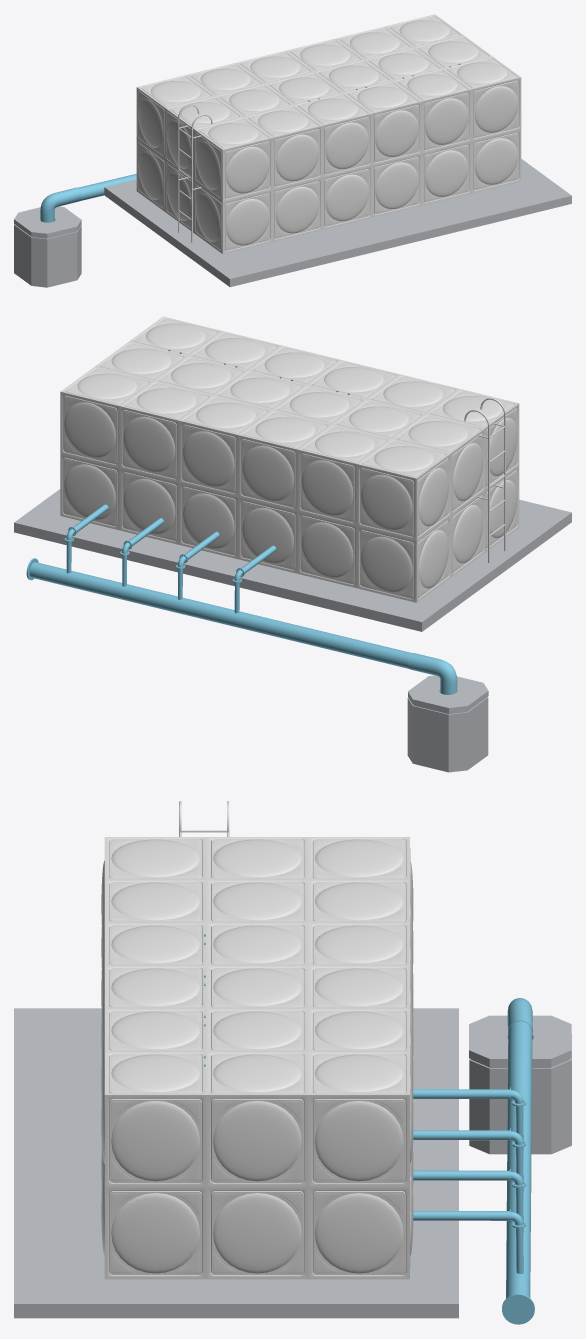
Rendered from room_outer.glb.
3 views of the same model, one above another, from view 1: azimuth 30°, elevation 25°; view 2: azimuth 150°, elevation 25°; view 3: azimuth 270°, elevation 25° (orthographic). The views are drawn at different scales.
Visible parts, largest first — view 1: Obj3d66_1070651_1_894, 地基, 平面, 平面_2, Obj3d66_1070651_2_244, 出水, 圆柱; view 2: Obj3d66_1070651_1_894, 地基, 圆柱, 平面, 平面_2, 出水, Obj3d66_1070651_2_244, 水泵, 水泵_3, 水泵_1, 水泵_2; view 3: Obj3d66_1070651_1_894, 地基, 平面, 圆柱, 平面_2, 水泵, 水泵_1, 水泵_2, 水泵_3, Obj3d66_9233065_133_145.
Boxes of the visible parts, x1,y1,x2,y2 form: Obj3d66_1070651_1_894: (136, 14, 521, 253); 地基: (104, 159, 571, 287); 平面: (14, 224, 81, 287); 平面_2: (14, 206, 81, 238); Obj3d66_1070651_2_244: (178, 104, 212, 242); 出水: (40, 187, 81, 222); 圆柱: (78, 174, 136, 200); Obj3d66_1070651_1_894: (60, 316, 519, 602); 地基: (14, 489, 571, 631); 圆柱: (29, 562, 412, 668); 平面: (407, 697, 488, 772); 平面_2: (408, 675, 488, 713); 出水: (408, 653, 457, 694); Obj3d66_1070651_2_244: (464, 398, 505, 562); 水泵: (64, 349, 181, 573); 水泵_3: (232, 390, 349, 613); 水泵_1: (120, 363, 237, 586); 水泵_2: (176, 376, 293, 599); Obj3d66_1070651_1_894: (101, 837, 413, 1279); 地基: (14, 1008, 458, 1318); 平面: (469, 1034, 571, 1154); 圆柱: (506, 1021, 532, 1298); 平面_2: (469, 1015, 571, 1066); 水泵: (204, 1055, 526, 1273); 水泵_1: (204, 1015, 526, 1232); 水泵_2: (204, 975, 526, 1191); 水泵_3: (204, 934, 526, 1149); Obj3d66_9233065_133_145: (502, 1293, 534, 1324).
Size of the model in its own units: 13.07 by 6.59 by 8.77.
